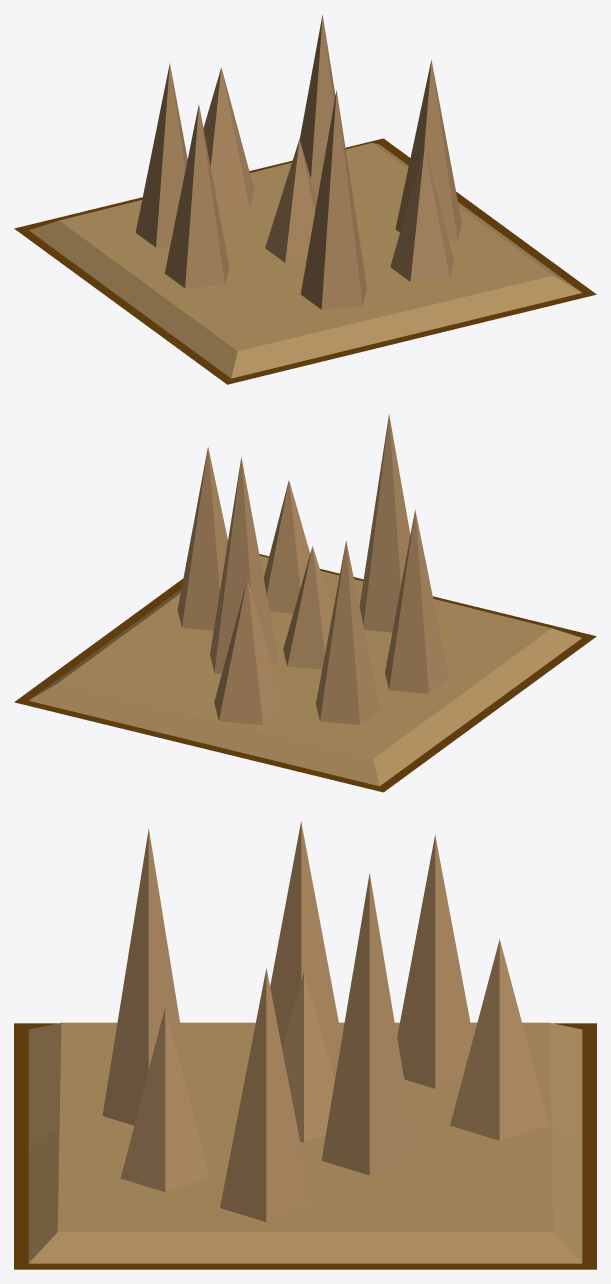
Rendered from 3D_trap_spikes.fbx.
3 views of the same model, one above another, from view 1: azimuth 30°, elevation 25°; view 2: azimuth 150°, elevation 25°; view 3: azimuth 270°, elevation 25° (orthographic). The views are drawn at different scales.
Visible parts, largest first — view 1: SM_trap_spikes_base, SM_spikes_01; view 2: SM_trap_spikes_base, SM_spikes_01; view 3: SM_trap_spikes_base, SM_spikes_01.
Part boxes in pixels (<box>): SM_trap_spikes_base: <box>14,138,596,384</box>; SM_spikes_01: <box>135,15,461,309</box>; SM_trap_spikes_base: <box>14,554,596,792</box>; SM_spikes_01: <box>177,414,449,725</box>; SM_trap_spikes_base: <box>14,1022,596,1269</box>; SM_spikes_01: <box>102,821,549,1222</box>.
Bounding box in the file's own units: 100 × 60.74 × 100.
Materials: 2 (2 with a texture image).
